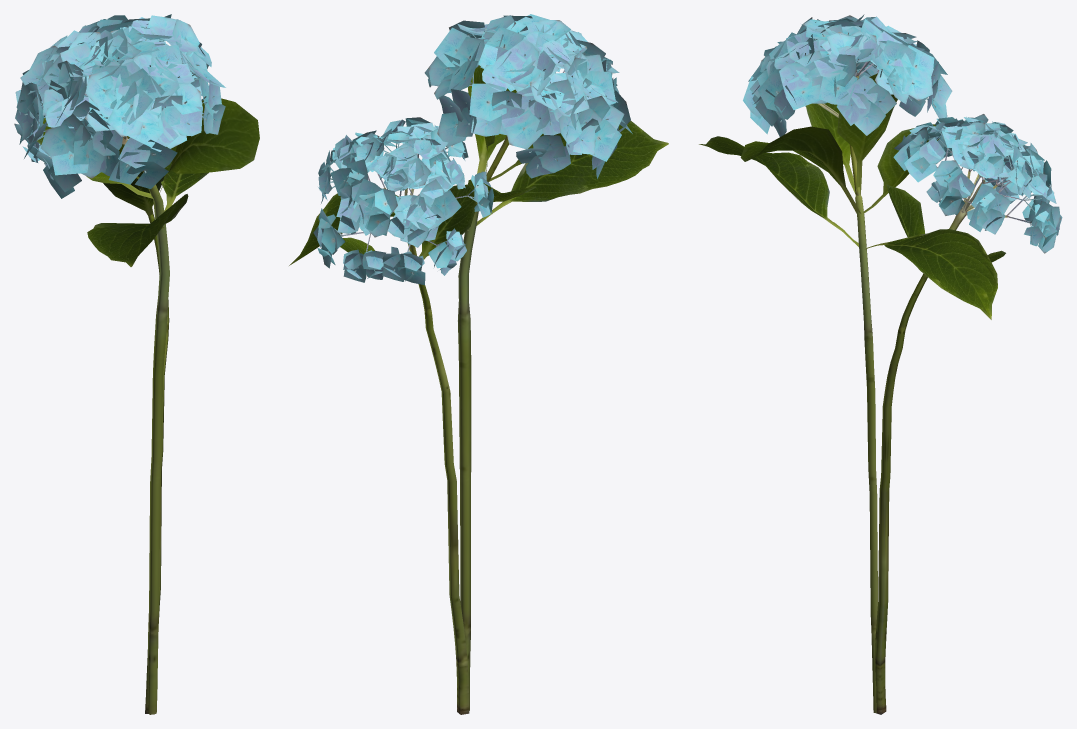
The model's file is Hydrangea_bush_normal_cyan.glb.
3 views of the same model, side by side, from view 1: azimuth 30°, elevation 25°; view 2: azimuth 150°, elevation 25°; view 3: azimuth 270°, elevation 25° (orthographic). The views are drawn at different scales.
Visible parts, largest first — view 1: BUSHEKK; view 2: BUSHEKK; view 3: BUSHEKK.
Part boxes in pixels (x1,y1,x2,y2): BUSHEKK: [14, 14, 259, 714]; BUSHEKK: [289, 14, 668, 714]; BUSHEKK: [699, 14, 1062, 714].
Size of the model in its own units: 1.48 by 3.79 by 1.87.
Materials: 1 (1 with a texture image).
